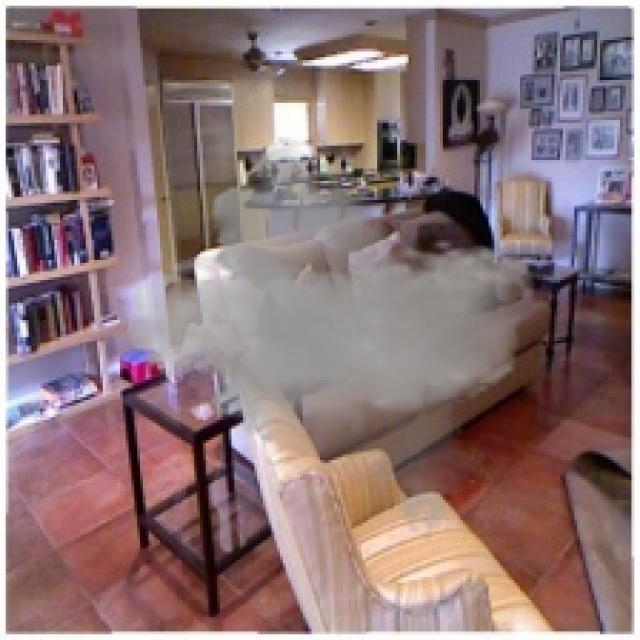Smoke: (125, 134, 538, 543)
